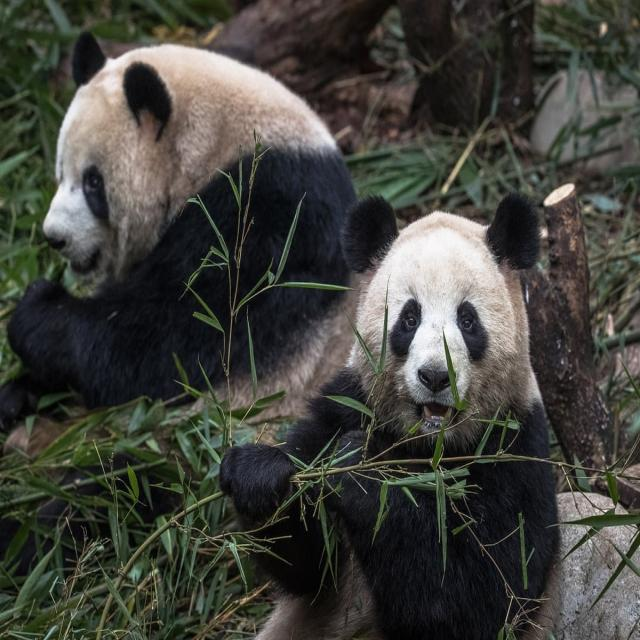Panda: (209, 170, 571, 640), (1, 24, 392, 439)
